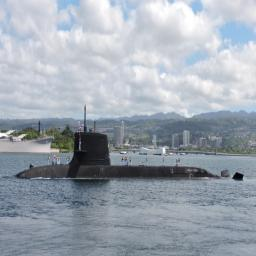submarine: (16, 131, 244, 181)
